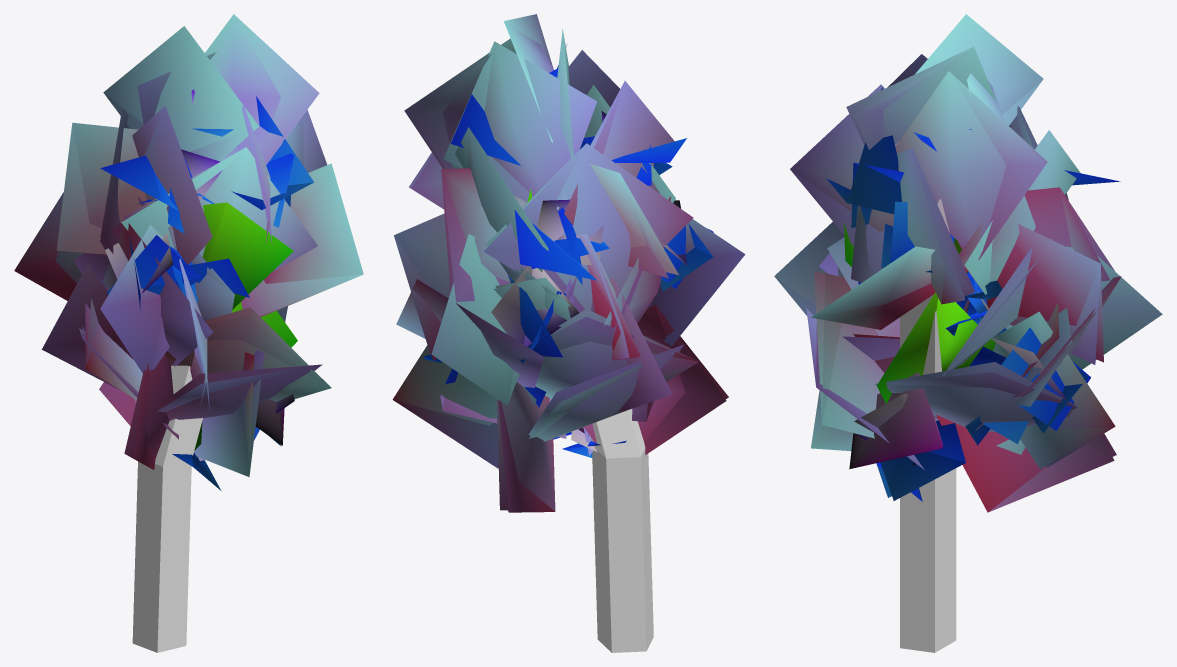
File: oak_d.dae
3 renders of one model, left to right at view 1: azimuth 30°, elevation 25°; view 2: azimuth 150°, elevation 25°; view 3: azimuth 270°, elevation 25°, orthographic. The views are drawn at different scales.
Visible parts, largest first — view 1: oak_d_a700, oak_d_a350, Colmesh-1; view 2: oak_d_a700, oak_d_a350, Colmesh-1; view 3: oak_d_a700, oak_d_a350, Colmesh-1.
Boxes of the visible parts, x1,y1,x2,y2 form: oak_d_a700: (42,14,363,490); oak_d_a350: (14,14,362,476); Colmesh-1: (132,365,202,652); oak_d_a700: (392,21,726,511); oak_d_a350: (393,14,745,512); Colmesh-1: (590,409,653,652); oak_d_a700: (774,14,1120,512); oak_d_a350: (774,47,1162,512); Colmesh-1: (900,294,956,652).
Size of the model in its own units: 3.49 by 3.86 by 7.11.
